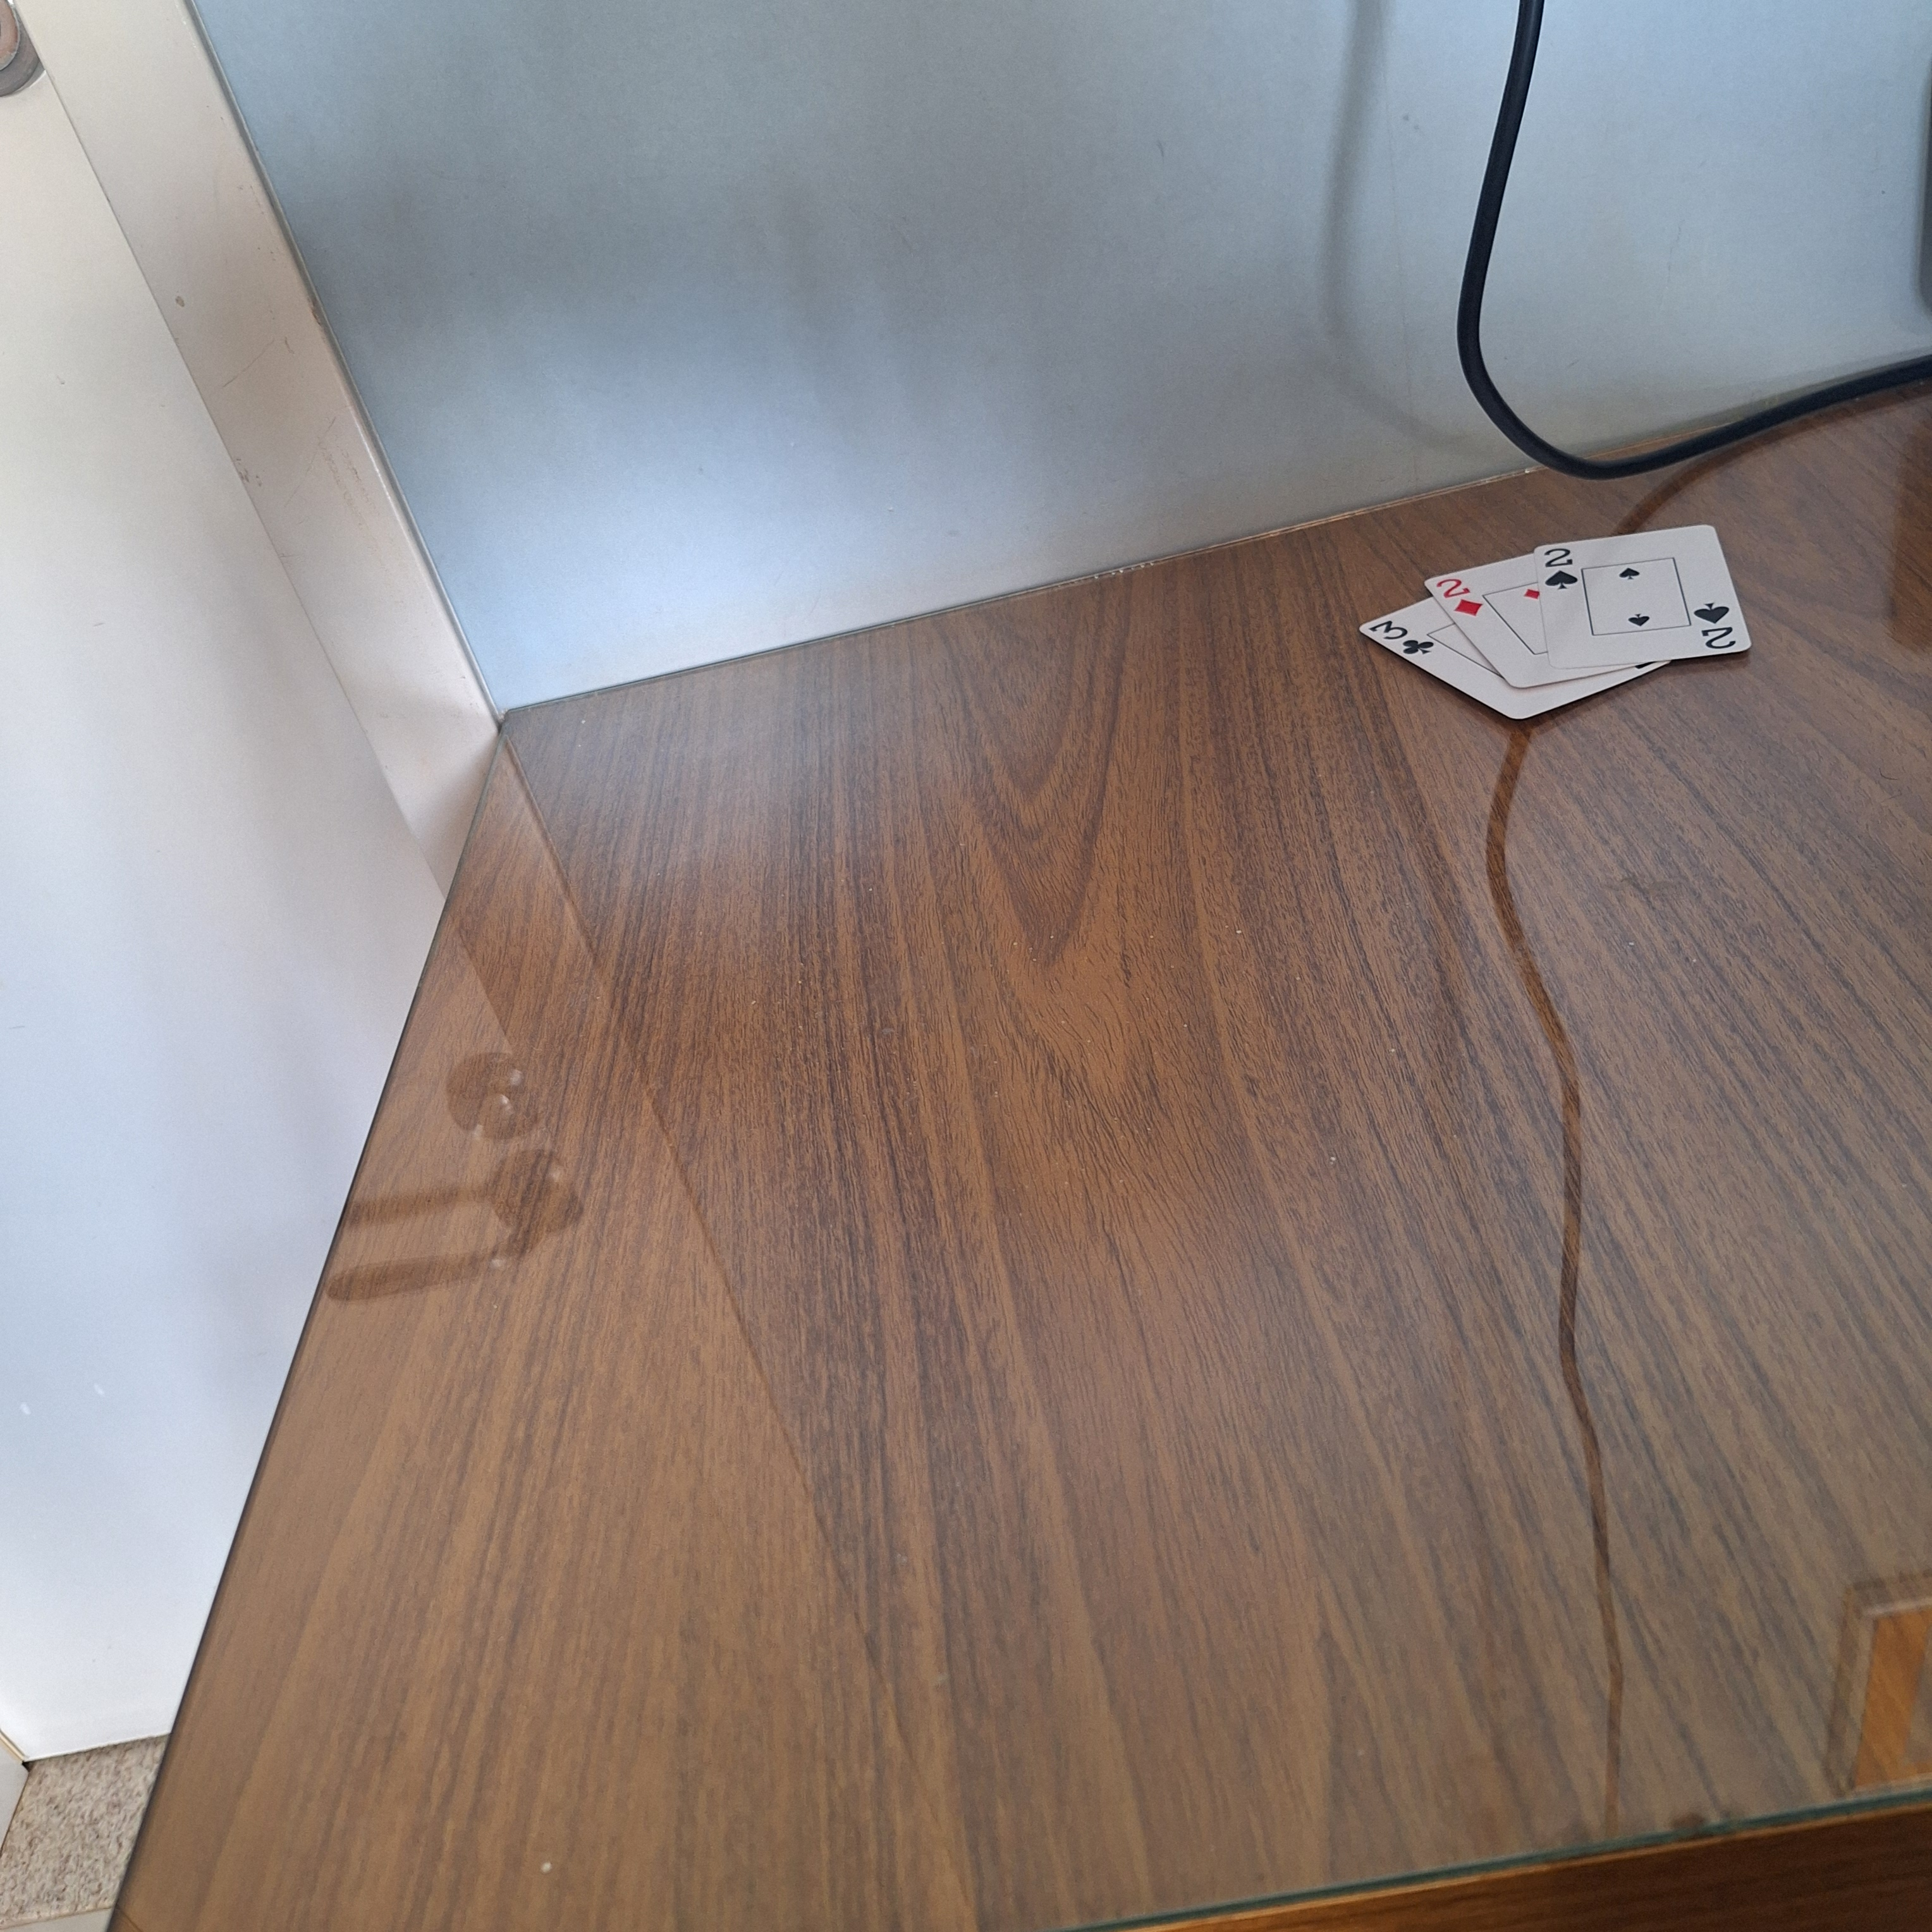2E: (1690, 594, 1746, 656), (1539, 541, 1585, 594)
2O: (1431, 568, 1491, 621)
3P: (1366, 607, 1437, 660)
